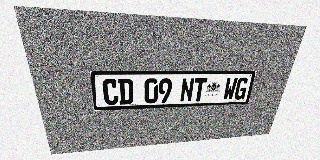0: (144, 78, 158, 104)
9: (158, 78, 172, 103)
C: (102, 79, 119, 105)
D: (118, 79, 133, 105)
G: (233, 77, 249, 100)
N: (180, 78, 195, 102)
T: (192, 78, 207, 102)
W: (222, 78, 238, 100)
